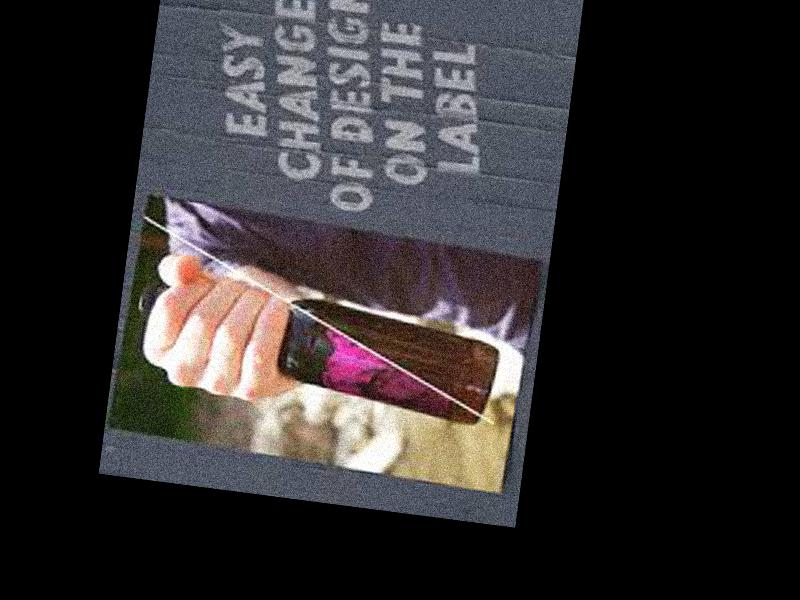Beer: (132, 276, 502, 423)
